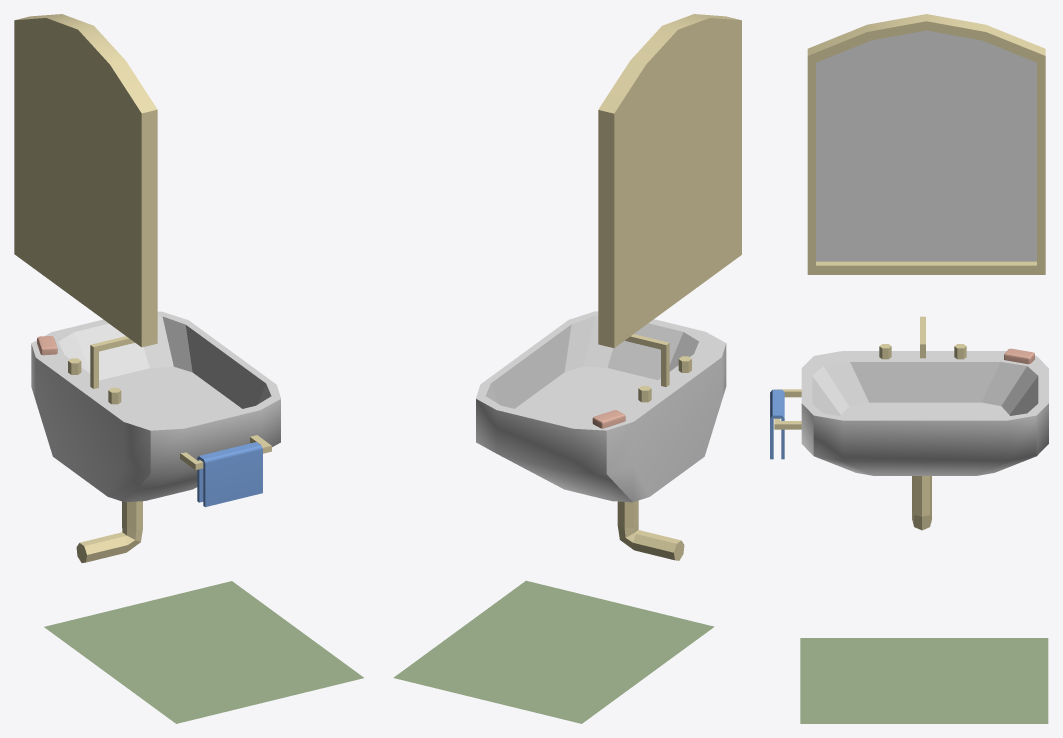
Rendered from geo_BathroomSink_01.fbx.
3 renders of one model, left to right at view 1: azimuth 30°, elevation 25°; view 2: azimuth 150°, elevation 25°; view 3: azimuth 270°, elevation 25°, orthographic. The views are drawn at different scales.
Visible parts, largest first — view 1: geo_mirror_01, geo_bathroomsink_01, geo_floorMat_03, geo_handtowel, geo_pipingSink_01, geo_BathTubTap_02; view 2: geo_mirror_01, geo_bathroomsink_01, geo_floorMat_03, geo_pipingSink_01, geo_BathTubTap_02; view 3: geo_mirror_01, geo_bathroomsink_01, geo_floorMat_03, geo_pipingSink_01, geo_handtowel.
Part boxes in pixels (x1,y1,x2,y2): geo_mirror_01: (14, 14, 157, 347); geo_bathroomsink_01: (31, 311, 280, 502); geo_floorMat_03: (44, 581, 363, 723); geo_handtowel: (197, 442, 262, 507); geo_pipingSink_01: (76, 501, 142, 562); geo_BathTubTap_02: (90, 336, 134, 388); geo_mirror_01: (598, 14, 741, 347); geo_bathroomsink_01: (476, 311, 726, 502); geo_floorMat_03: (393, 580, 714, 723); geo_pipingSink_01: (617, 500, 684, 560); geo_BathTubTap_02: (625, 334, 669, 386); geo_mirror_01: (807, 14, 1045, 274); geo_bathroomsink_01: (801, 351, 1048, 475); geo_floorMat_03: (800, 638, 1048, 723); geo_pipingSink_01: (912, 476, 931, 530); geo_handtowel: (770, 389, 784, 459).
Size of the model in its own units: 46.24 by 132 by 54.49.
